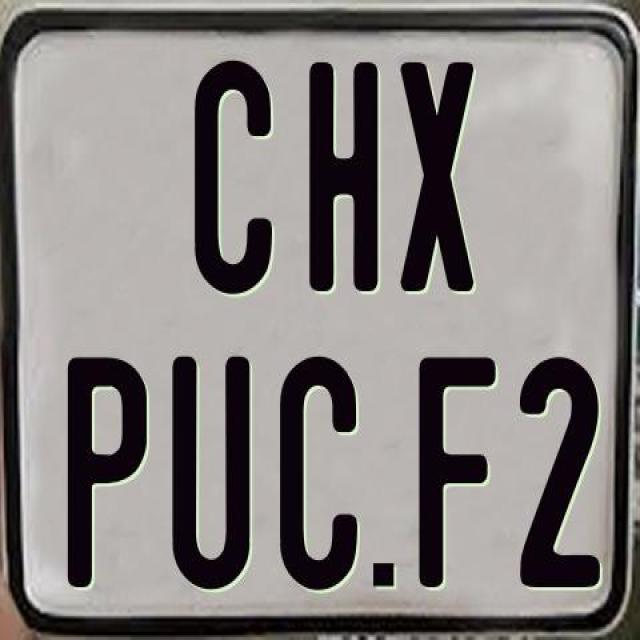2: (518, 353, 606, 592)
C: (194, 58, 278, 299), (277, 352, 359, 586)
F: (414, 353, 492, 584)
H: (306, 58, 382, 290)
P: (66, 354, 146, 590)
U: (171, 357, 252, 592)
X: (400, 61, 478, 292)
